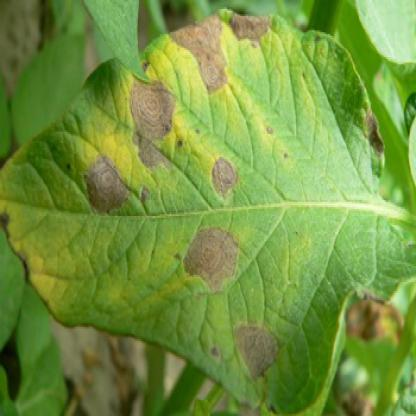Potato leaf early blight: (6, 7, 408, 411)
